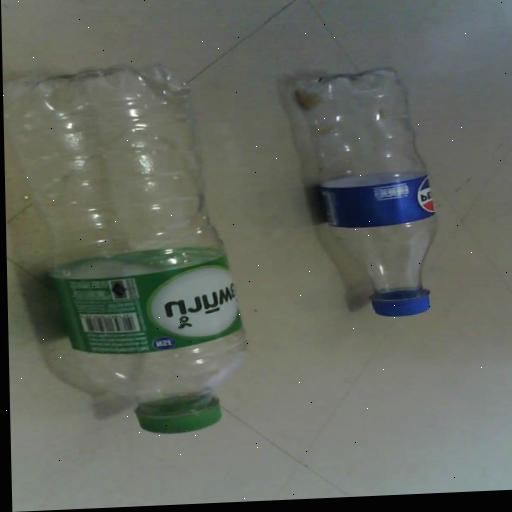bottle: (2, 62, 252, 434), (292, 67, 441, 320)
